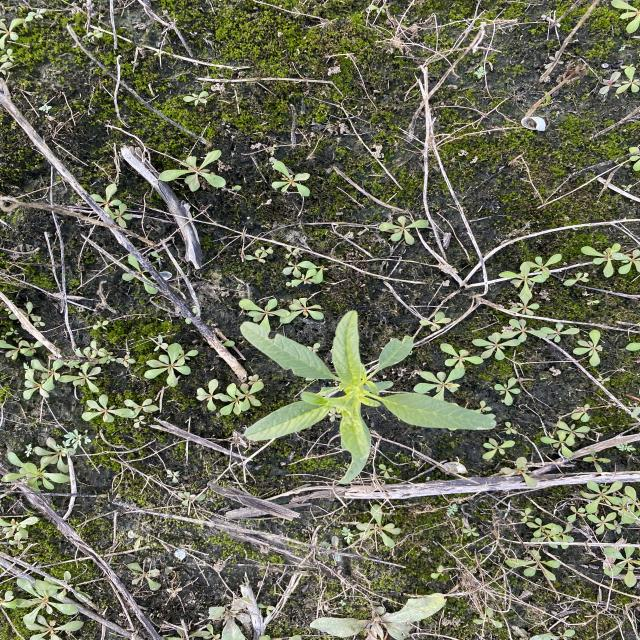Carpetweed: (2, 339, 136, 400), (472, 315, 608, 372), (1, 570, 88, 639), (495, 252, 590, 312), (0, 434, 77, 490), (567, 478, 637, 536), (237, 243, 330, 283), (153, 148, 228, 192), (140, 336, 200, 390), (191, 375, 267, 416), (235, 293, 325, 327), (115, 248, 176, 298), (80, 392, 162, 427), (84, 182, 136, 234), (578, 240, 637, 284), (501, 546, 563, 585), (355, 502, 404, 551), (517, 509, 573, 549), (371, 210, 433, 246), (264, 154, 313, 199), (412, 362, 465, 403), (540, 419, 592, 456), (598, 539, 638, 587), (496, 455, 542, 493), (1, 514, 42, 556), (121, 559, 165, 594), (435, 342, 484, 372)
Waterhemp: (237, 309, 499, 487)
